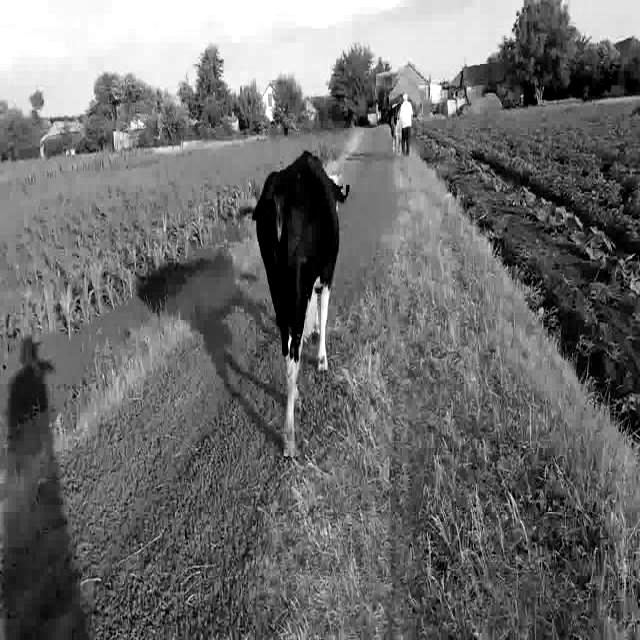COW: (254, 151, 349, 457)
